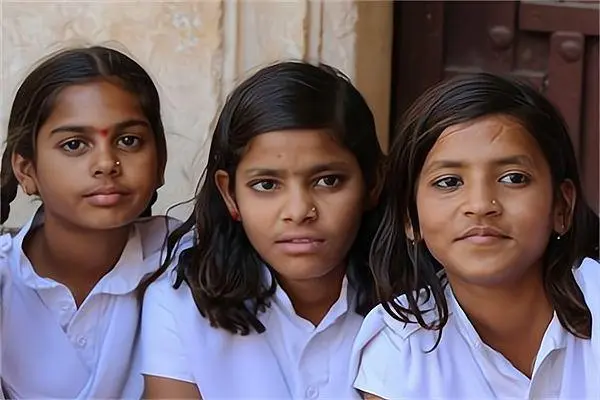withoutmask: (213, 52, 382, 291), (408, 73, 584, 288), (11, 44, 173, 237)
